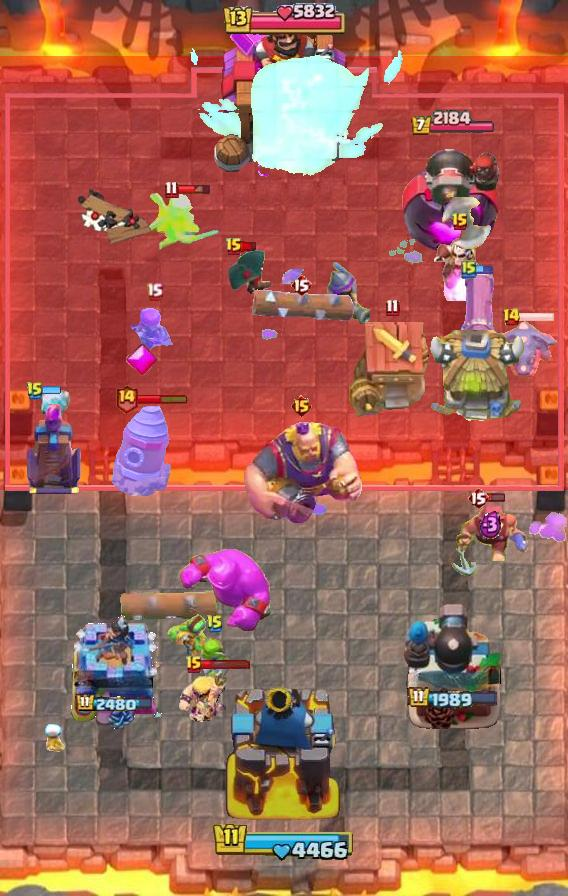arrows: (177, 666, 231, 723)
bat: (27, 388, 71, 422)
battle-healer: (456, 272, 502, 376)
bomb-tower: (314, 258, 370, 324)
clock: (212, 821, 356, 863), (221, 0, 347, 40)
clone: (178, 547, 274, 633)
electro-spirit: (478, 509, 501, 538)
emote: (135, 393, 188, 405), (201, 658, 251, 669), (517, 311, 555, 323), (176, 183, 211, 195), (475, 264, 494, 275), (42, 385, 61, 396), (486, 493, 505, 504), (241, 241, 259, 252)
evolution-symbol: (129, 304, 179, 354)
fireball: (450, 503, 530, 577)
giant-snowball: (167, 614, 215, 658)
graveyard: (488, 319, 560, 381)
heal-spirit: (43, 723, 73, 755)
ice-spirit-evolution-symbol: (24, 404, 84, 496)
king-tower: (211, 7, 357, 181), (223, 680, 345, 826)
lightning: (241, 421, 362, 527)
magic-archer: (111, 403, 171, 497)
mega-knight: (186, 34, 403, 180)
minion: (248, 289, 355, 325), (118, 590, 222, 624)
poison: (144, 191, 220, 251)
prince: (425, 330, 527, 426)
queen-tower: (65, 614, 162, 730)
royal-giant: (429, 197, 495, 249)
selected: (410, 111, 496, 138), (407, 686, 499, 711), (74, 693, 154, 714)
skeleton-king: (432, 237, 488, 301)
skeleton-king-skill: (126, 343, 158, 377)
sparky: (349, 321, 435, 419)
tesla: (227, 248, 273, 296)
text: (114, 382, 138, 413), (290, 394, 313, 418), (290, 273, 312, 297), (467, 486, 489, 510), (502, 307, 521, 327), (451, 212, 469, 232), (225, 237, 243, 257), (26, 381, 44, 401), (206, 614, 224, 634), (185, 655, 203, 675), (461, 259, 477, 279), (146, 283, 163, 301), (165, 181, 179, 200), (385, 299, 399, 317)
tower-bar: (403, 601, 503, 731), (401, 138, 505, 256)
zap: (195, 638, 235, 682)
